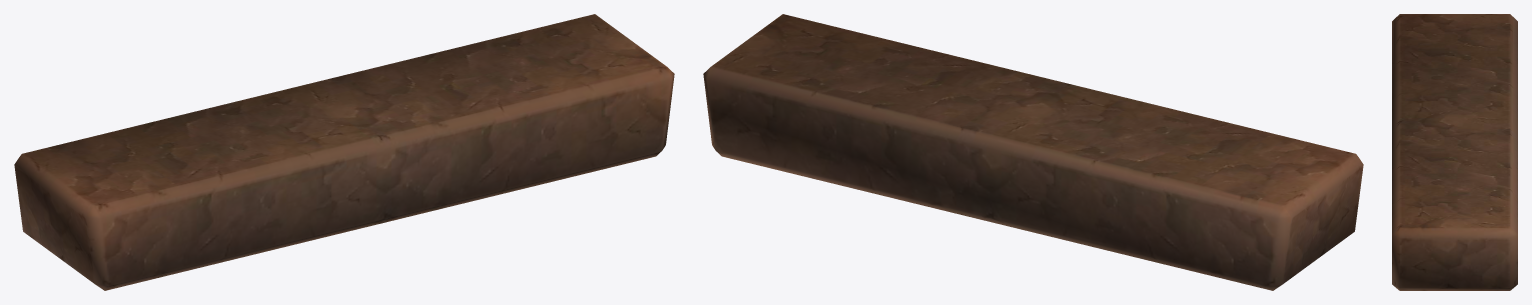
Rendered from DE_House_Mod_Part_101.fbx.
3 views of the same model, side by side, from view 1: azimuth 30°, elevation 25°; view 2: azimuth 150°, elevation 25°; view 3: azimuth 270°, elevation 25° (orthographic). The views are drawn at different scales.
Visible parts, largest first — view 1: DE_House_Mod_Part_101; view 2: DE_House_Mod_Part_101; view 3: DE_House_Mod_Part_101.
Part boxes in pixels (<box>): DE_House_Mod_Part_101: <box>14,14,674,290</box>; DE_House_Mod_Part_101: <box>703,14,1363,290</box>; DE_House_Mod_Part_101: <box>1392,14,1517,290</box>.
Bounding box in the file's own units: 4.9 × 0.6933 × 1.18.
